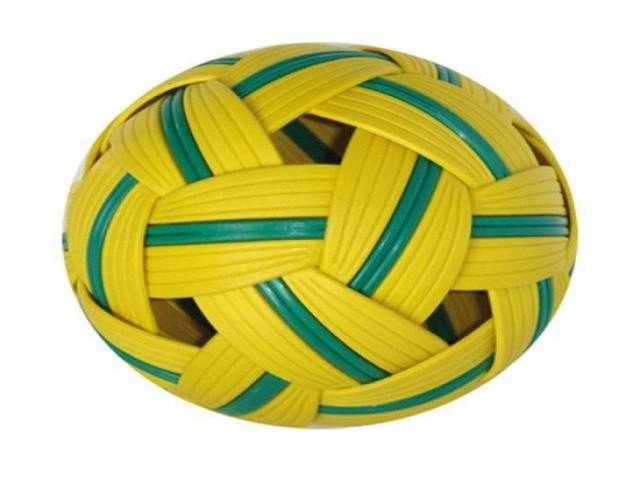round ball: (64, 43, 576, 426)
